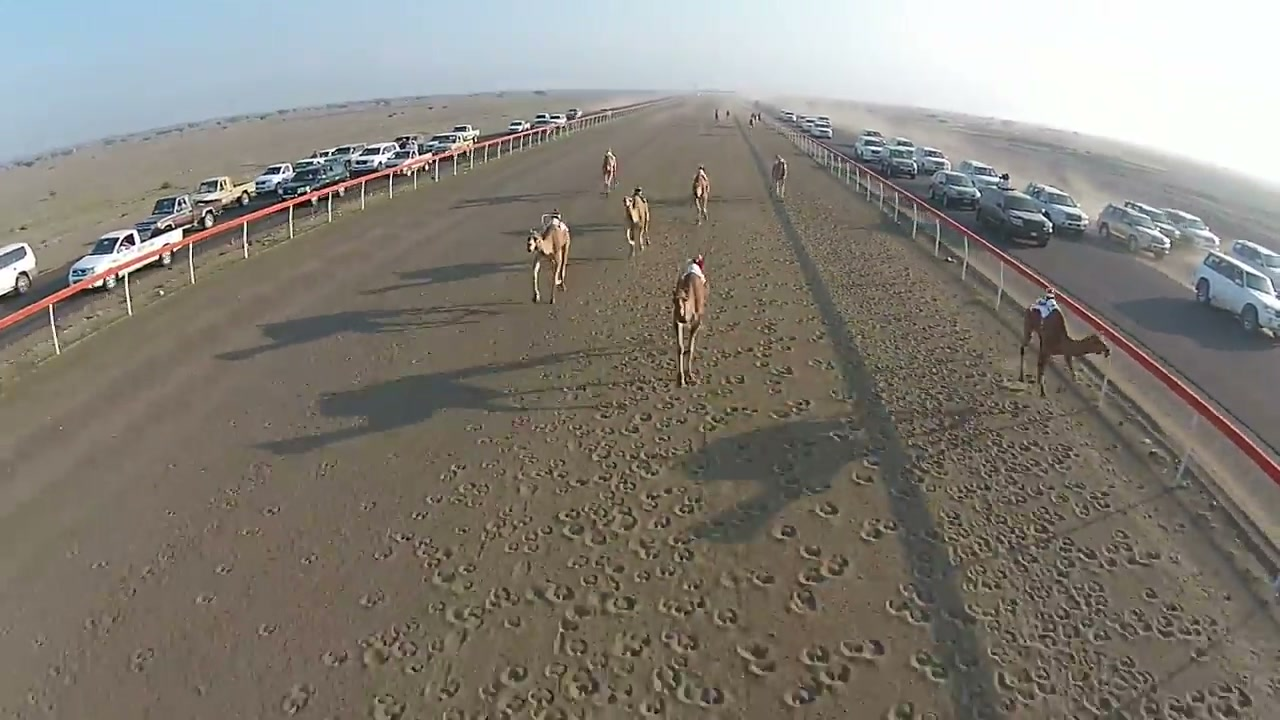animal_foot_print: (28, 115, 1279, 717)
